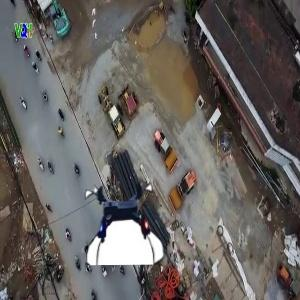drone: (80, 179, 167, 266)
